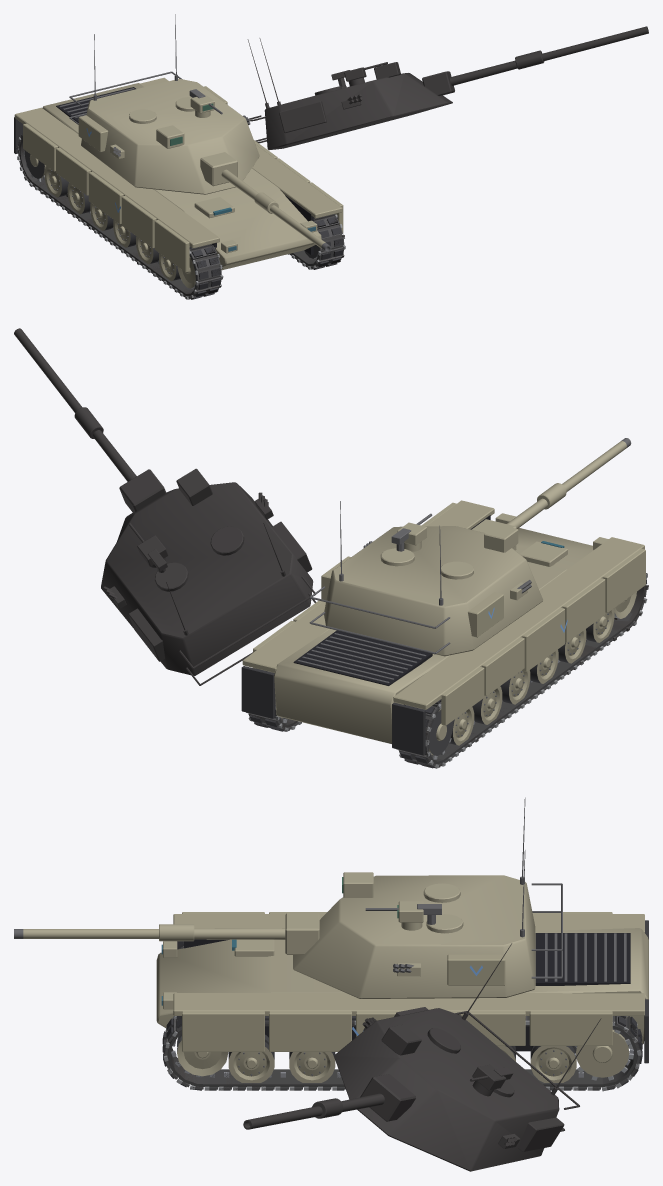
The model's file is tank__k1e1.glb.
The picture shows the model from 3 angles, top to bottom: view 1: azimuth 30°, elevation 25°; view 2: azimuth 150°, elevation 25°; view 3: azimuth 270°, elevation 25°; orthographic projection. The views are drawn at different scales.
Visible parts, largest first — view 1: Hull_Mesh, Turret_Mesh, Wreck, Track_L_Mesh, Gun_Mesh, Track_R_Mesh, Gunner_Sight_Mesh, Wheel_L0_Mesh, Wheel_L1_Mesh, CITV_Mesh; view 2: Hull_Mesh, Wreck, Turret_Mesh, Track_L_Mesh, Gun_Mesh, Gunner_Sight_Mesh, Sprocket_L_Mesh, Wheel_L1_Mesh, Wheel_L2_Mesh, Wheel_L0_Mesh; view 3: Hull_Mesh, Wreck, Turret_Mesh, Track_R_Mesh, Gun_Mesh, Sprocket_R_Mesh, Wheel_R0_Mesh, Wheel_R5_Mesh, Wheel_R4_Mesh, Idler_R_Mesh, Gunner_Sight_Mesh, CITV_Mesh (+2 smaller).
Boxes of the visible parts, x1,y1,x2,y2 form: Hull_Mesh: [14, 77, 343, 272]; Turret_Mesh: [69, 71, 259, 194]; Wreck: [16, 26, 648, 298]; Track_L_Mesh: [16, 133, 223, 299]; Gun_Mesh: [200, 152, 331, 252]; Track_R_Mesh: [288, 214, 345, 269]; Gunner_Sight_Mesh: [156, 125, 184, 148]; Wheel_L0_Mesh: [44, 166, 68, 197]; Wheel_L1_Mesh: [67, 183, 90, 214]; CITV_Mesh: [190, 94, 214, 117]; Hull_Mesh: [241, 500, 645, 755]; Wreck: [14, 328, 648, 767]; Turret_Mesh: [309, 526, 542, 656]; Track_L_Mesh: [396, 573, 648, 768]; Gun_Mesh: [471, 438, 631, 550]; Gunner_Sight_Mesh: [484, 524, 518, 552]; Sprocket_L_Mesh: [429, 708, 453, 759]; Wheel_L1_Mesh: [472, 686, 502, 724]; Wheel_L2_Mesh: [500, 670, 530, 704]; Wheel_L0_Mesh: [449, 707, 474, 745]; Hull_Mesh: [156, 912, 648, 1063]; Wreck: [163, 943, 641, 1171]; Turret_Mesh: [293, 875, 562, 998]; Track_R_Mesh: [162, 1016, 642, 1091]; Gun_Mesh: [14, 913, 319, 954]; Sprocket_R_Mesh: [574, 1028, 633, 1080]; Wheel_R0_Mesh: [530, 1046, 576, 1082]; Wheel_R5_Mesh: [228, 1034, 274, 1082]; Wheel_R4_Mesh: [289, 1052, 335, 1082]; Idler_R_Mesh: [177, 1034, 228, 1076]; Gunner_Sight_Mesh: [342, 872, 373, 897]; CITV_Mesh: [397, 901, 423, 930].
Size of what is drawn, in the model's own units: 11.34 by 3.7 by 9.64.
